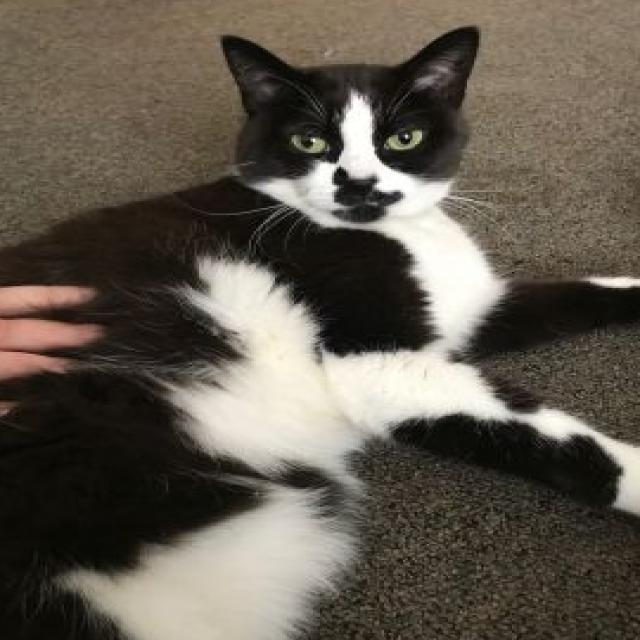Tuxedo: (0, 19, 640, 640)
